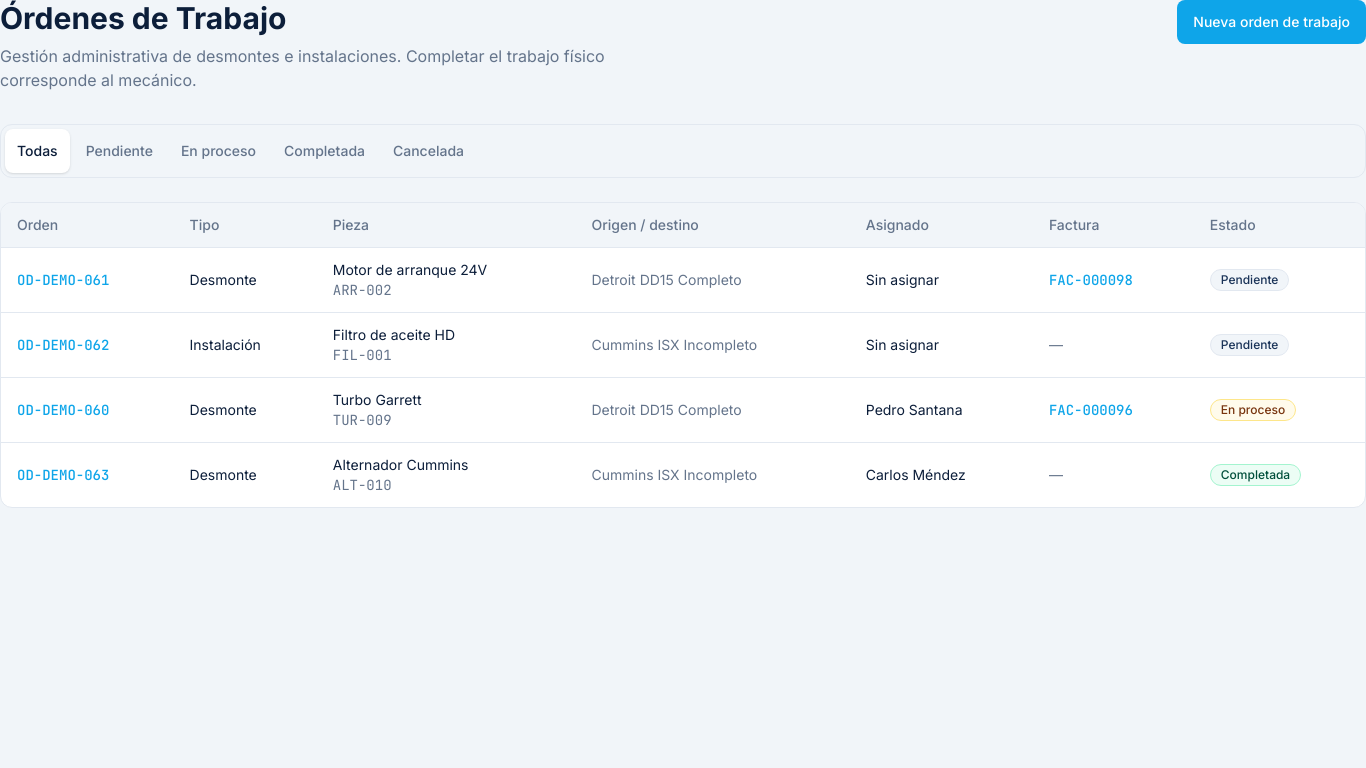
Test case: WorkOrdersPage › creates a manual dismantling from the list and opens the detail
The width and height of the screenshot is (1366, 768).
expect the heading "Órdenes de Trabajo" is shown: met, box [0,0,286,36]
Click the button "Nueva orden de trabajo" at (1272, 22), box [1177,0,1365,44]
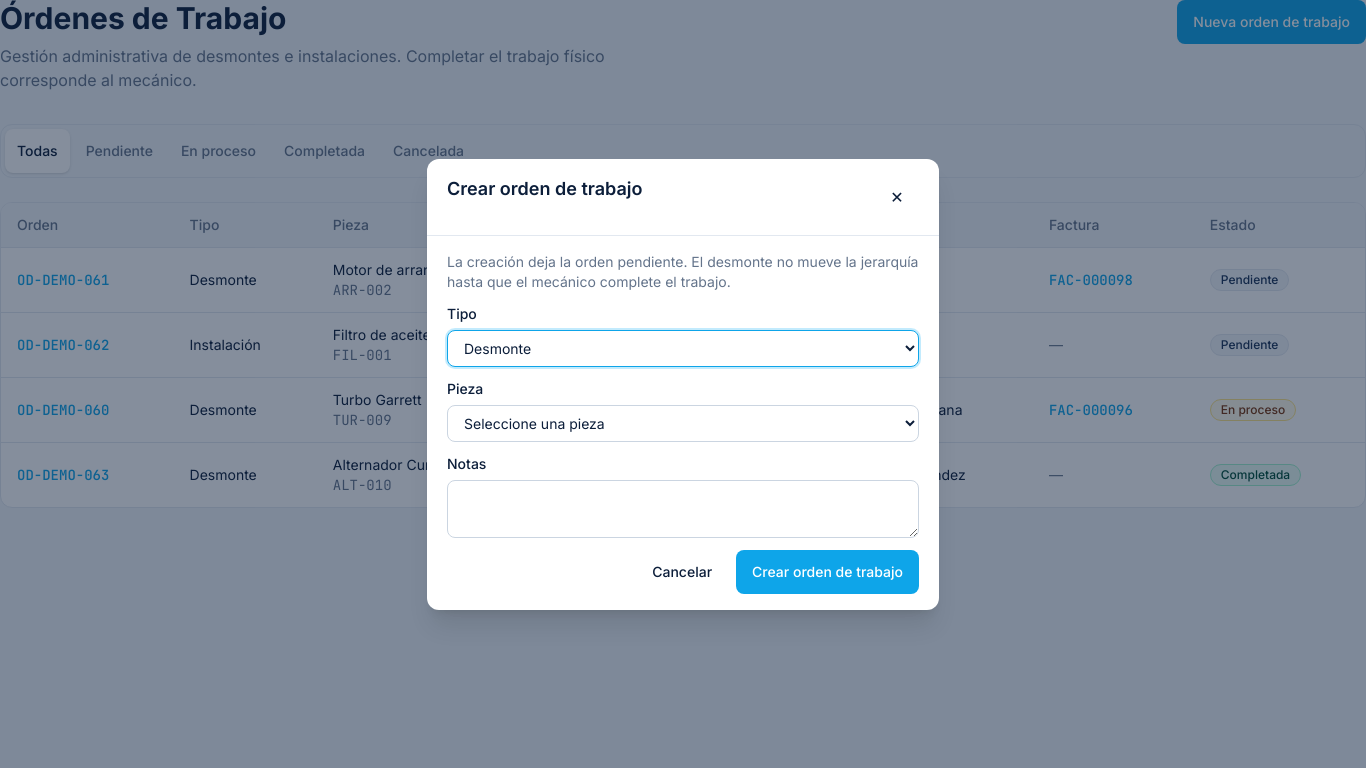
Select "MOT-001 — Detroit DD15 Completo" in the dropdown labelled "Pieza" at (683, 423), box [447,404,919,442]
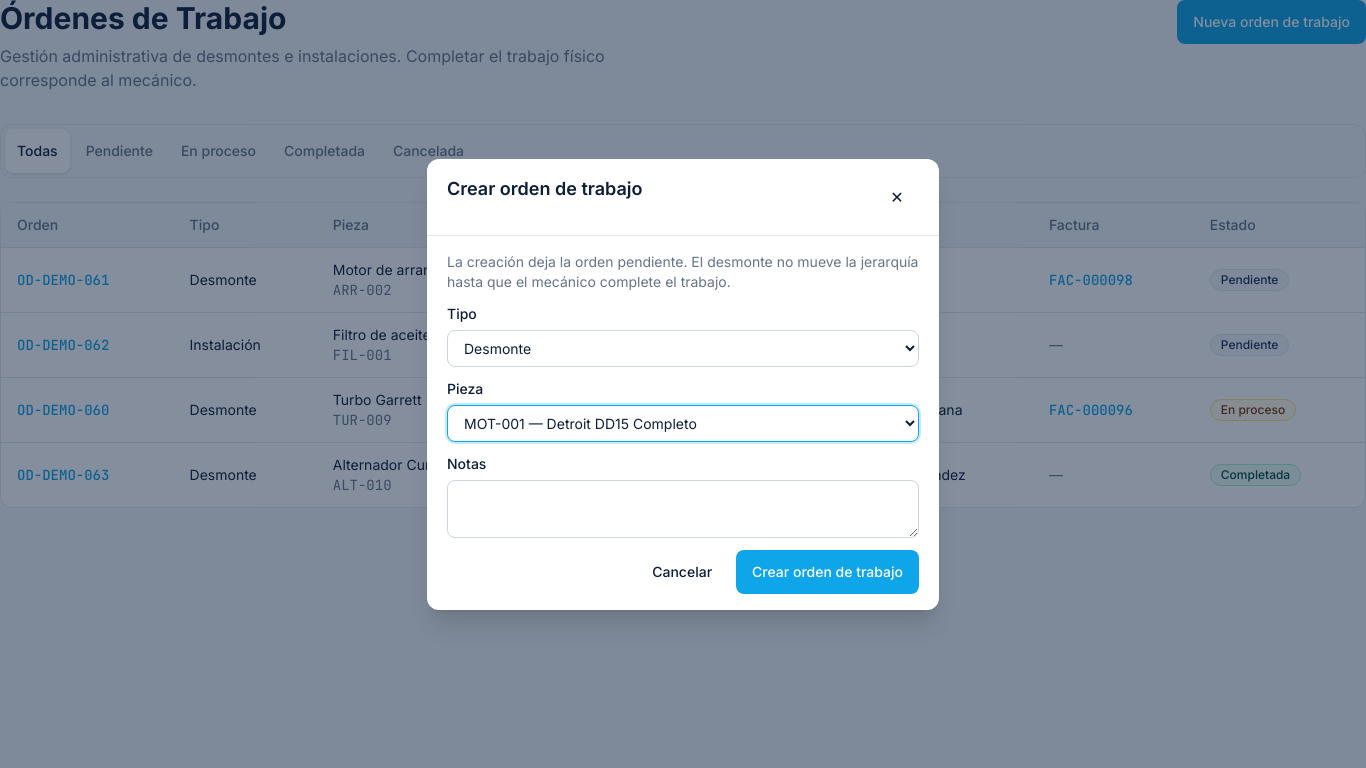
Click the button "Crear orden de trabajo" at (828, 572), box [736,550,919,594]
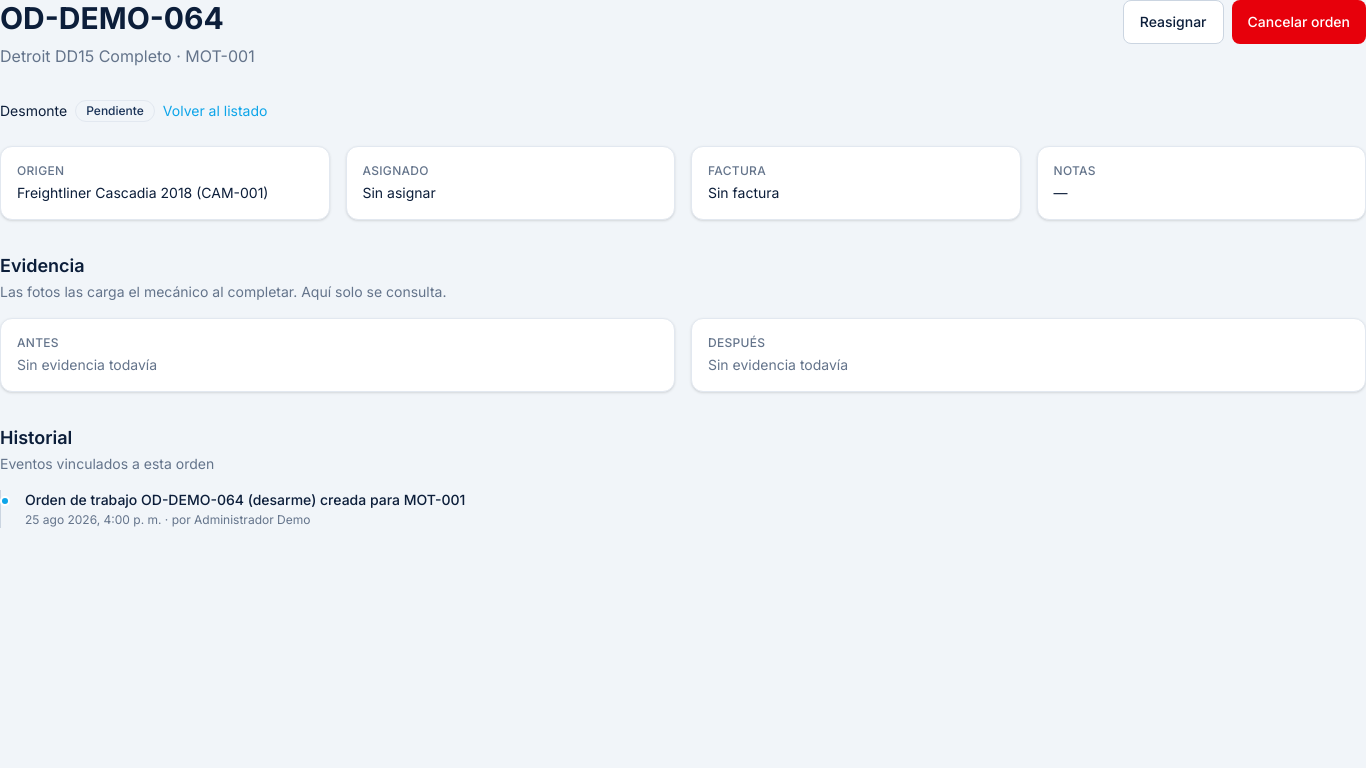
expect the text "Pendiente" is shown: met, box [75,100,155,122]
expect the heading "OD-DEMO-064" is shown: met, box [0,0,255,36]
expect the text "Detroit DD15 Completo · MOT-001" is shown: met, box [0,44,255,68]
